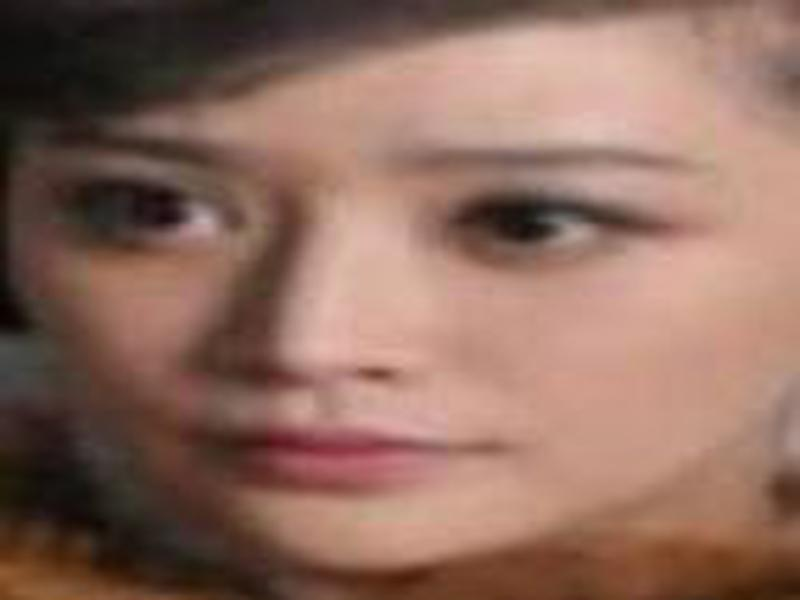without_mask: (10, 82, 772, 572)
